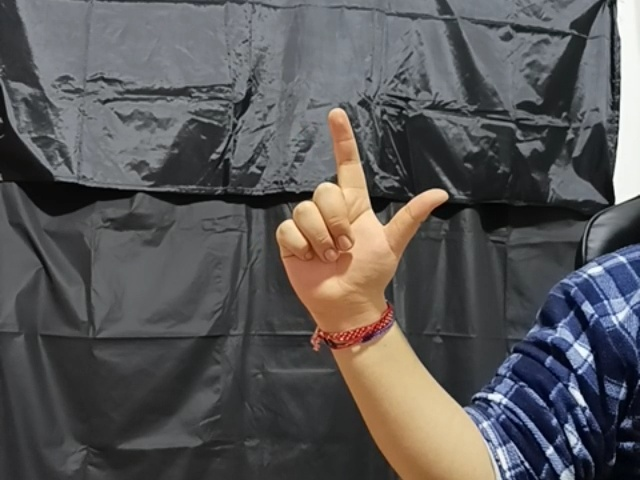L: (267, 110, 454, 309)
